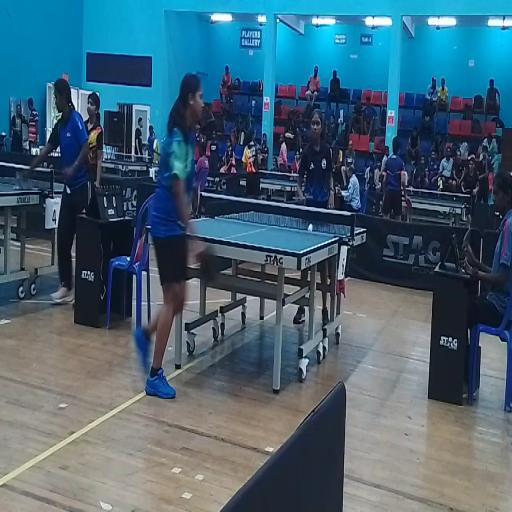ball: (308, 225, 312, 233)
